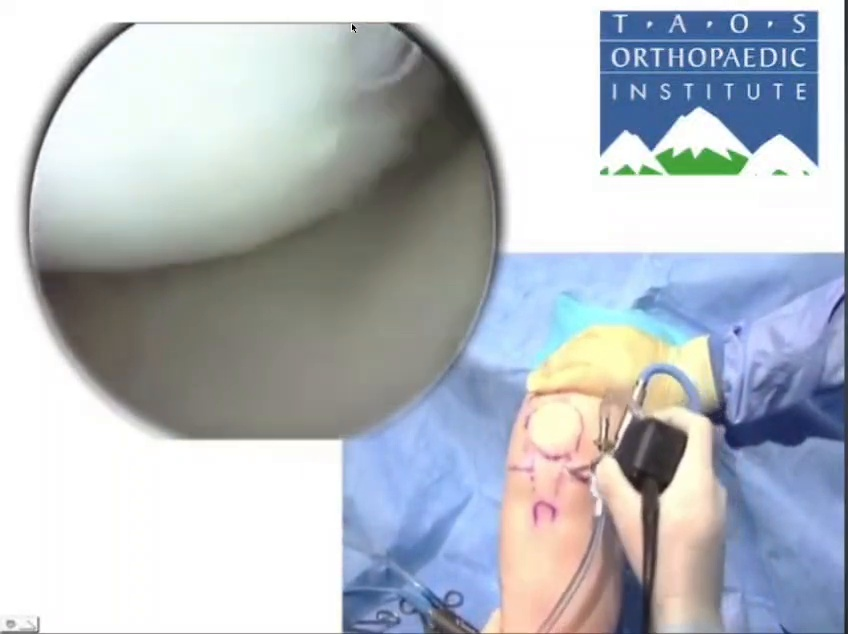arthroscope: (32, 0, 424, 273)
probe: (281, 260, 424, 426)
